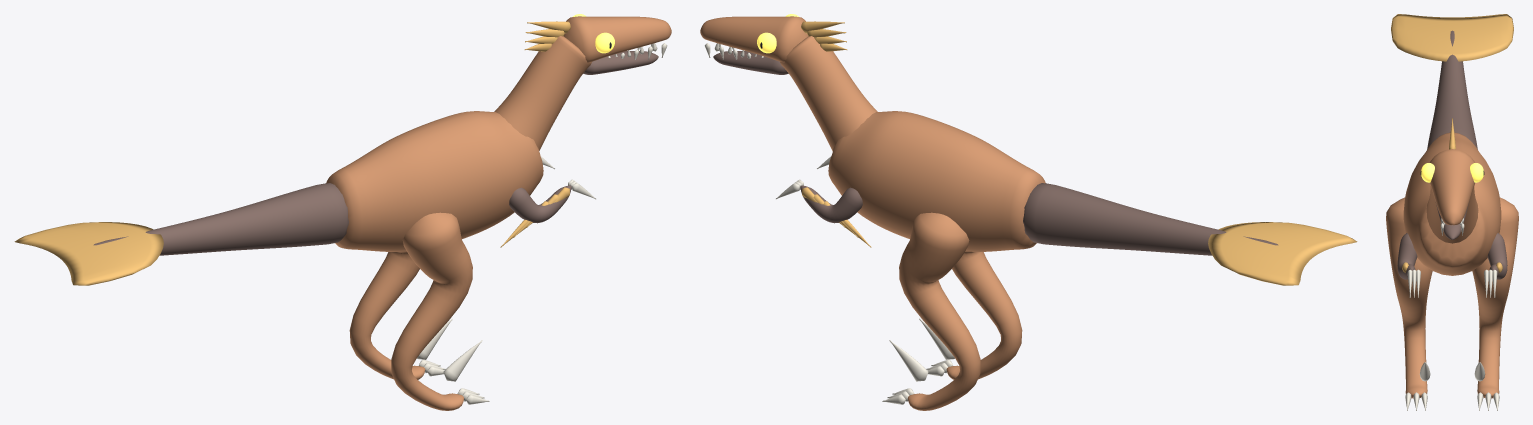
The model's file is raptor.glb.
The picture shows the model from 3 angles, left to right: view 1: azimuth 30°, elevation 25°; view 2: azimuth 150°, elevation 25°; view 3: azimuth 270°, elevation 25°; orthographic projection. The views are drawn at different scales.
Parts seen in each view (by area): view 1: Raptor_Torso, Raptor_TailRod, Leg1_Limb, TailPlumageFan, Raptor_Neck, Leg0_Limb, Raptor_Cranium, ArmLimb_1, Raptor_LowerJaw; view 2: Raptor_Torso, Raptor_TailRod, Leg0_Limb, TailPlumageFan, Raptor_Neck, Leg1_Limb, Raptor_Cranium, ArmLimb_0, Raptor_LowerJaw; view 3: Raptor_Torso, TailPlumageFan, Leg0_Limb, Leg1_Limb, Raptor_TailRod, Raptor_Cranium, Raptor_Neck, ArmLimb_1, ArmLimb_0, Raptor_LowerJaw, Eye_L, Eye_R (+3 smaller).
Boxes of the visible parts, x1,y1,x2,y2 form: Raptor_Torso: (326, 111, 543, 251); Raptor_TailRod: (93, 183, 348, 255); Leg1_Limb: (391, 212, 472, 410); TailPlumageFan: (14, 222, 163, 285); Raptor_Neck: (494, 36, 591, 150); Leg0_Limb: (349, 251, 425, 379); Raptor_Cranium: (563, 16, 671, 62); ArmLimb_1: (509, 185, 571, 223); Raptor_LowerJaw: (583, 51, 658, 74); Raptor_Torso: (828, 111, 1045, 251); Raptor_TailRod: (1023, 183, 1278, 255); Leg0_Limb: (899, 212, 980, 410); TailPlumageFan: (1208, 222, 1357, 285); Raptor_Neck: (780, 36, 877, 150); Leg1_Limb: (946, 251, 1022, 379); Raptor_Cranium: (700, 16, 808, 62); ArmLimb_0: (800, 185, 862, 223); Raptor_LowerJaw: (713, 51, 788, 74); Raptor_Torso: (1403, 132, 1501, 275); TailPlumageFan: (1391, 14, 1513, 61); Leg0_Limb: (1472, 197, 1518, 398); Leg1_Limb: (1386, 197, 1432, 398); Raptor_TailRod: (1427, 30, 1477, 149); Raptor_Cranium: (1430, 149, 1474, 225); Raptor_Neck: (1426, 186, 1478, 243); ArmLimb_1: (1397, 233, 1417, 279); ArmLimb_0: (1487, 233, 1507, 279); Raptor_LowerJaw: (1435, 202, 1469, 239); Eye_L: (1470, 163, 1483, 182); Eye_R: (1421, 163, 1434, 182).
Bounding box in the file's own units: 2.99 × 1.58 × 0.5914.
